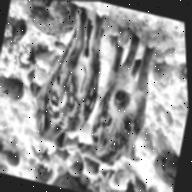boar: (63, 35, 192, 185), (14, 13, 125, 158)
